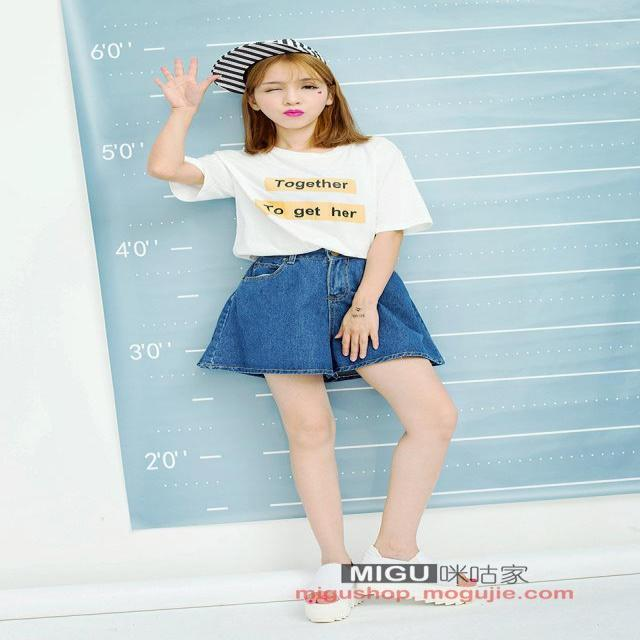short sleeve top: (181, 134, 432, 261)
shorts: (193, 241, 439, 379)
